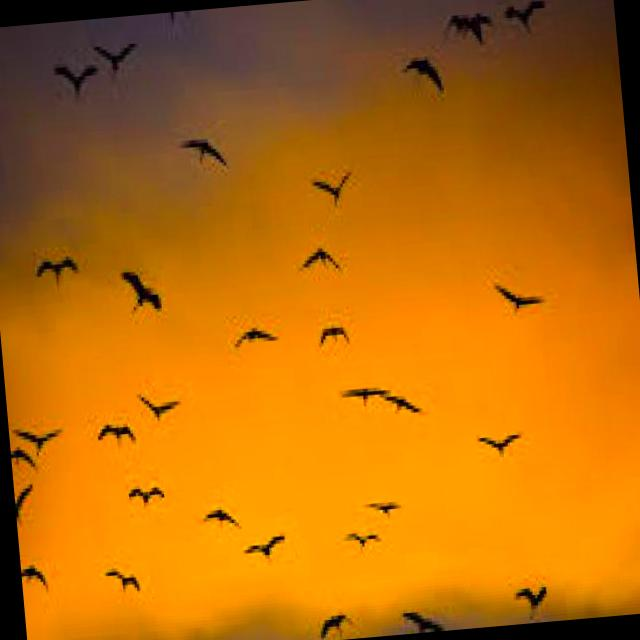bird: (462, 412, 527, 467), (398, 49, 454, 109), (116, 264, 171, 324), (450, 0, 498, 64), (304, 161, 360, 214), (179, 122, 233, 176), (391, 588, 452, 635), (334, 373, 392, 420), (491, 274, 546, 323), (88, 36, 146, 82), (316, 588, 367, 640), (296, 236, 350, 284), (24, 248, 84, 290), (378, 383, 424, 435), (54, 58, 104, 105), (343, 514, 387, 564), (506, 573, 556, 616), (503, 0, 555, 41), (101, 558, 147, 604), (14, 415, 71, 452), (306, 312, 356, 354), (364, 486, 411, 529), (138, 383, 188, 423), (90, 415, 140, 454), (242, 526, 290, 566), (122, 477, 178, 510), (227, 318, 280, 350), (194, 500, 243, 534), (13, 479, 47, 527), (20, 558, 50, 610), (10, 442, 44, 470)
